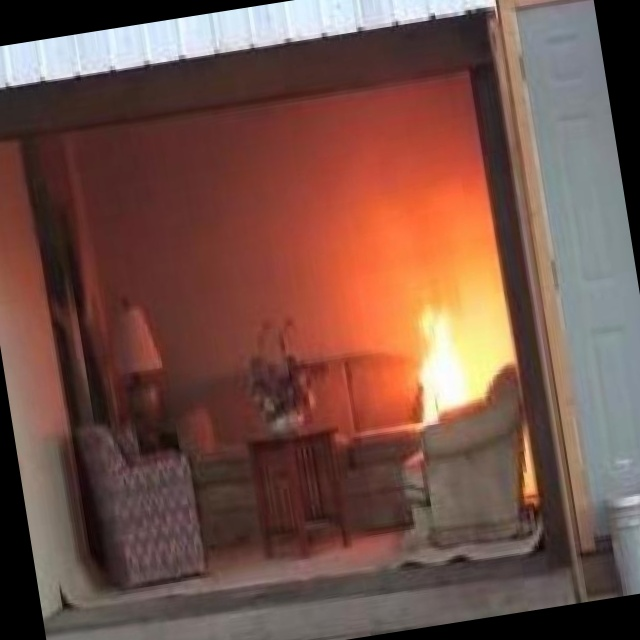fire: (386, 256, 495, 413)
